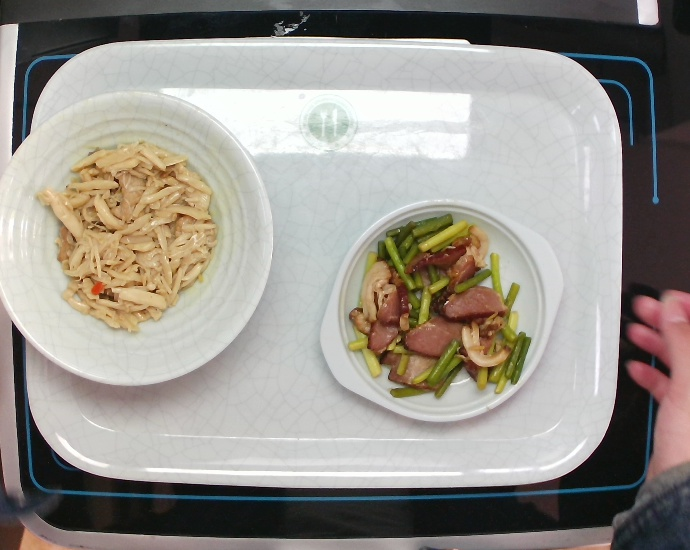JYsf-Shuang_Er_Pan: (317, 195, 566, 425)
JYsf-Xiao_Tang_Wan: (2, 88, 276, 389)
